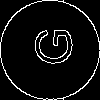G: (25, 25, 73, 67)
